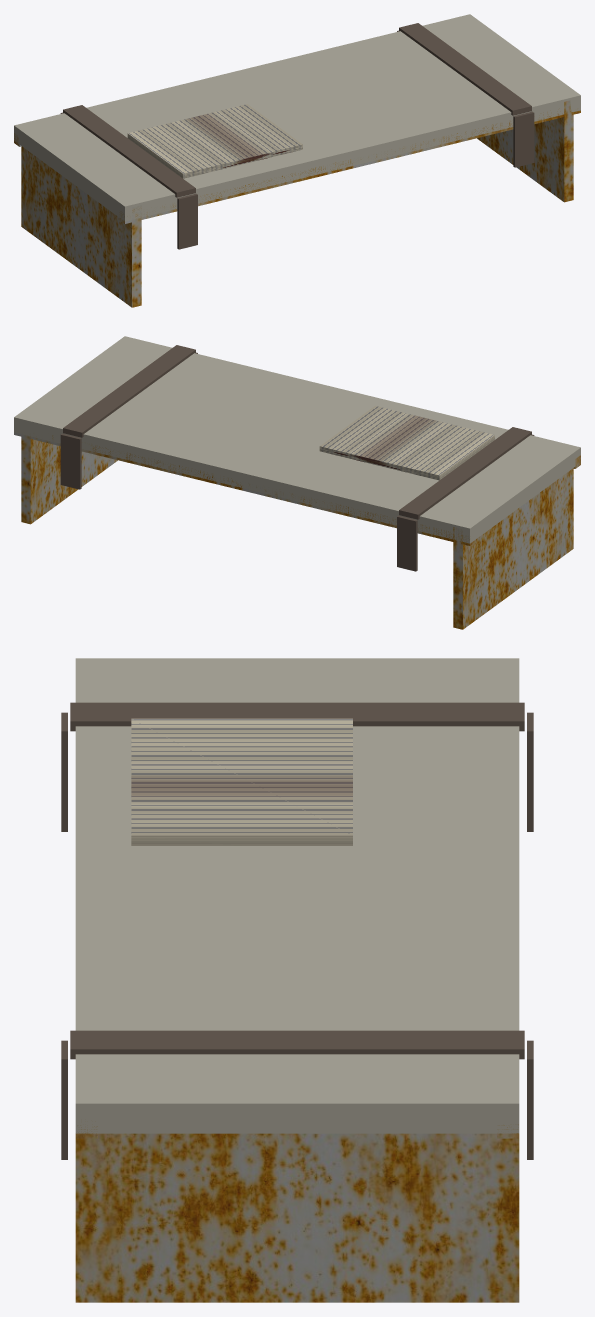
File: cot.glb
3 views of the same model, one above another, from view 1: azimuth 30°, elevation 25°; view 2: azimuth 150°, elevation 25°; view 3: azimuth 270°, elevation 25° (orthographic). The views are drawn at different scales.
Visible parts, largest first — view 1: cot; view 2: cot; view 3: cot.
Part boxes in pixels (x1,y1,x2,y2): cot: (14,14,580,307); cot: (14,336,580,629); cot: (61,658,533,1302).
Bounding box in the file's own units: 1.9 × 0.43 × 0.852.
Materials: 4 (2 with a texture image).
